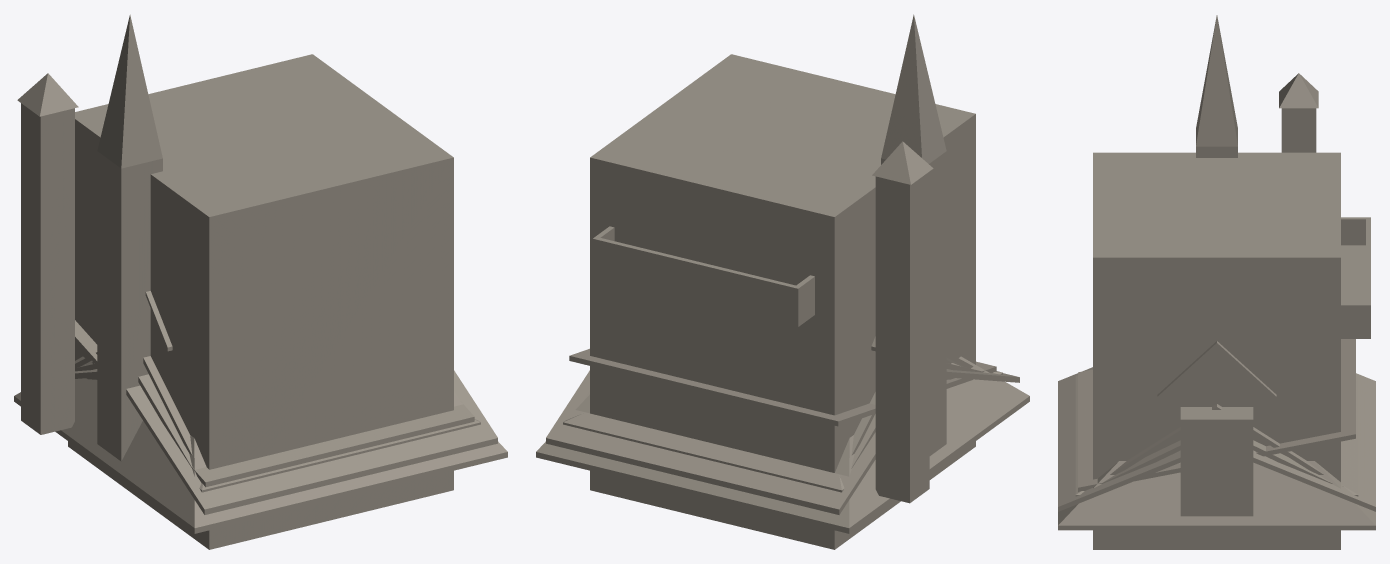
Rendered from buildings.glb.
The picture shows the model from 3 angles, left to right: view 1: azimuth 30°, elevation 25°; view 2: azimuth 150°, elevation 25°; view 3: azimuth 270°, elevation 25°; orthographic projection. The views are drawn at different scales.
Parts seen in each view (by area): view 1: Body_block_mesh, Body_chalet_mesh, Church_spire_mesh, Church_campanile_mesh, Roof_farmhouse_mesh, Roof_chalet_mesh, Roof_shed_mesh, Roof_ticino_mesh, Roof_urban_mesh, Roof_valais_mesh; view 2: Body_block_mesh, Body_chalet_mesh, Church_campanile_mesh, Roof_farmhouse_mesh, Church_spire_mesh, Roof_chalet_mesh, Roof_ticino_mesh, Roof_shed_mesh, Roof_urban_mesh; view 3: Body_block_mesh, Body_chalet_mesh, Roof_farmhouse_mesh, Church_spire_mesh, Roof_chalet_mesh, Roof_shed_mesh, Church_campanile_mesh, Roof_ticino_mesh, Roof_urban_mesh, Roof_valais_mesh.
Boxes of the visible parts, left/top/right/bottom form: Body_block_mesh: left=68, top=54, right=453, bottom=549; Body_chalet_mesh: left=68, top=54, right=453, bottom=546; Church_spire_mesh: left=97, top=14, right=172, bottom=461; Church_campanile_mesh: left=17, top=73, right=168, bottom=434; Roof_farmhouse_mesh: left=14, top=356, right=507, bottom=533; Roof_chalet_mesh: left=75, top=369, right=497, bottom=514; Roof_shed_mesh: left=75, top=320, right=474, bottom=487; Roof_ticino_mesh: left=199, top=419, right=480, bottom=492; Roof_urban_mesh: left=75, top=352, right=192, bottom=455; Roof_valais_mesh: left=75, top=363, right=460, bottom=468; Body_block_mesh: left=590, top=54, right=957, bottom=549; Body_chalet_mesh: left=590, top=57, right=975, bottom=511; Church_campanile_mesh: left=872, top=141, right=933, bottom=503; Roof_farmhouse_mesh: left=536, top=356, right=1029, bottom=533; Church_spire_mesh: left=871, top=14, right=946, bottom=455; Roof_chalet_mesh: left=546, top=369, right=1019, bottom=514; Roof_ticino_mesh: left=563, top=371, right=1002, bottom=492; Roof_shed_mesh: left=569, top=348, right=996, bottom=426; Roof_urban_mesh: left=583, top=352, right=973, bottom=474; Body_block_mesh: left=1093, top=152, right=1340, bottom=549; Body_chalet_mesh: left=1093, top=152, right=1370, bottom=549; Roof_farmhouse_mesh: left=1058, top=461, right=1375, bottom=530; Church_spire_mesh: left=1157, top=15, right=1276, bottom=516; Roof_chalet_mesh: left=1058, top=367, right=1375, bottom=511; Roof_shed_mesh: left=1078, top=339, right=1355, bottom=491; Church_campanile_mesh: left=1157, top=73, right=1318, bottom=399; Roof_ticino_mesh: left=1075, top=375, right=1358, bottom=496; Roof_urban_mesh: left=1110, top=404, right=1323, bottom=474; Roof_valais_mesh: left=1101, top=442, right=1341, bottom=487.
Bounding box in the file's own units: 1.4 × 1.9 × 1.28.
1 material, 1 textured.
